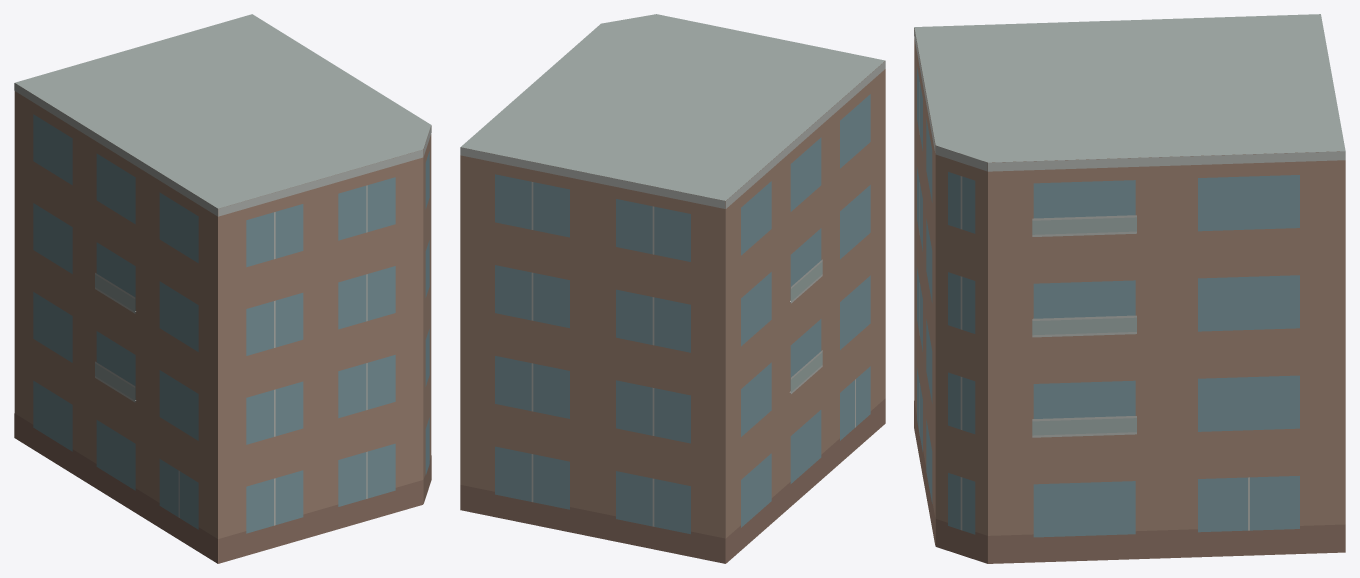
File: survey-upis-32655294.glb
3 renders of one model, left to right at view 1: azimuth 30°, elevation 25°; view 2: azimuth 150°, elevation 25°; view 3: azimuth 270°, elevation 25°, orthographic. The views are drawn at different scales.
Visible parts, largest first — view 1: survey-upis-32655294.tmp; view 2: survey-upis-32655294.tmp; view 3: survey-upis-32655294.tmp.
Part boxes in pixels (bbox=[...]): survey-upis-32655294.tmp: bbox=[14, 14, 431, 563]; survey-upis-32655294.tmp: bbox=[460, 14, 885, 563]; survey-upis-32655294.tmp: bbox=[914, 14, 1345, 563].
Size of the model in its own units: 8.58 by 10.8 by 10.53.
